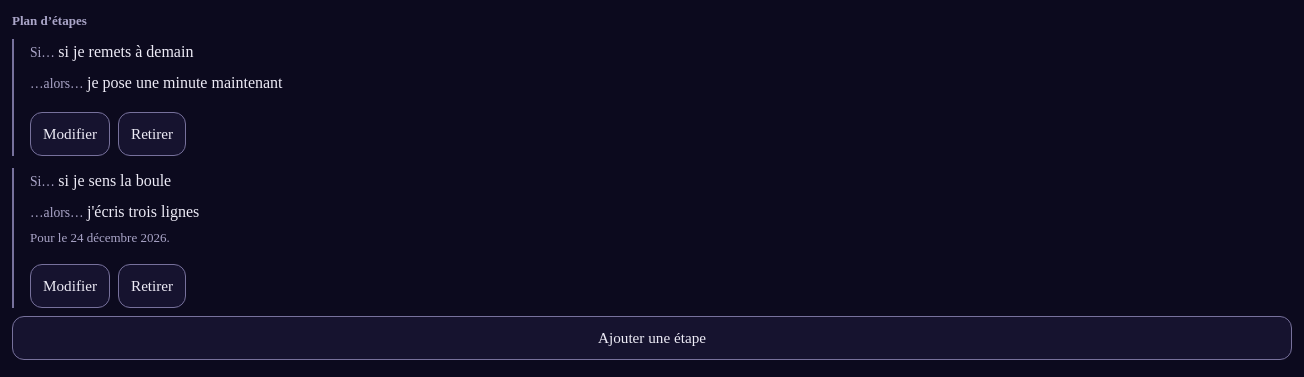
Test: [AC2] le plan est une suite VIVANTE — et il se lit dans sa forme › retirer une étape la fait DISPARAÎTRE (suppression franche, aucun tombstone)
Expected: the text "si je remets à demain" is shown, [58,43,193,60]
Click the button "Retirer" below "si je remets à demain" at (152, 134), box [118,112,186,156]
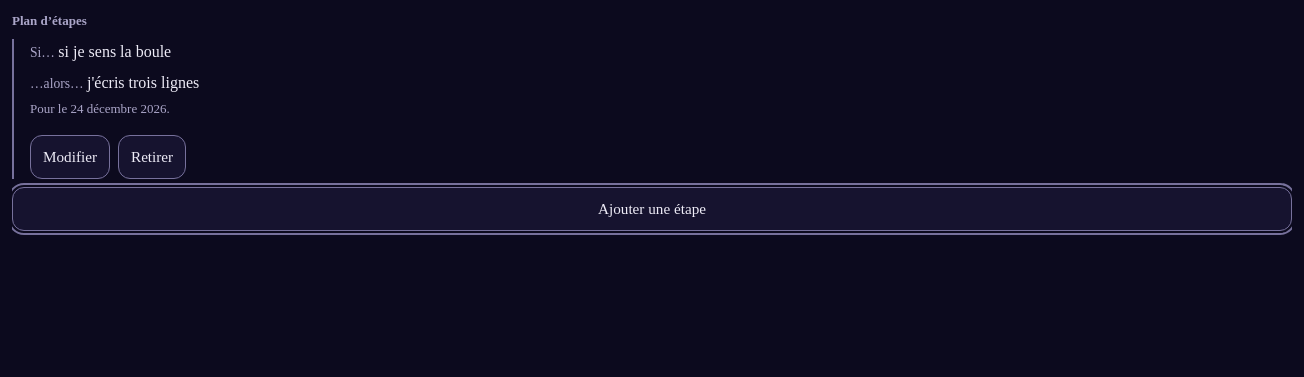
Expected: the text "si je sens la boule" is shown, [58,43,171,60]
Now the text "si je remets à demain" is gone
